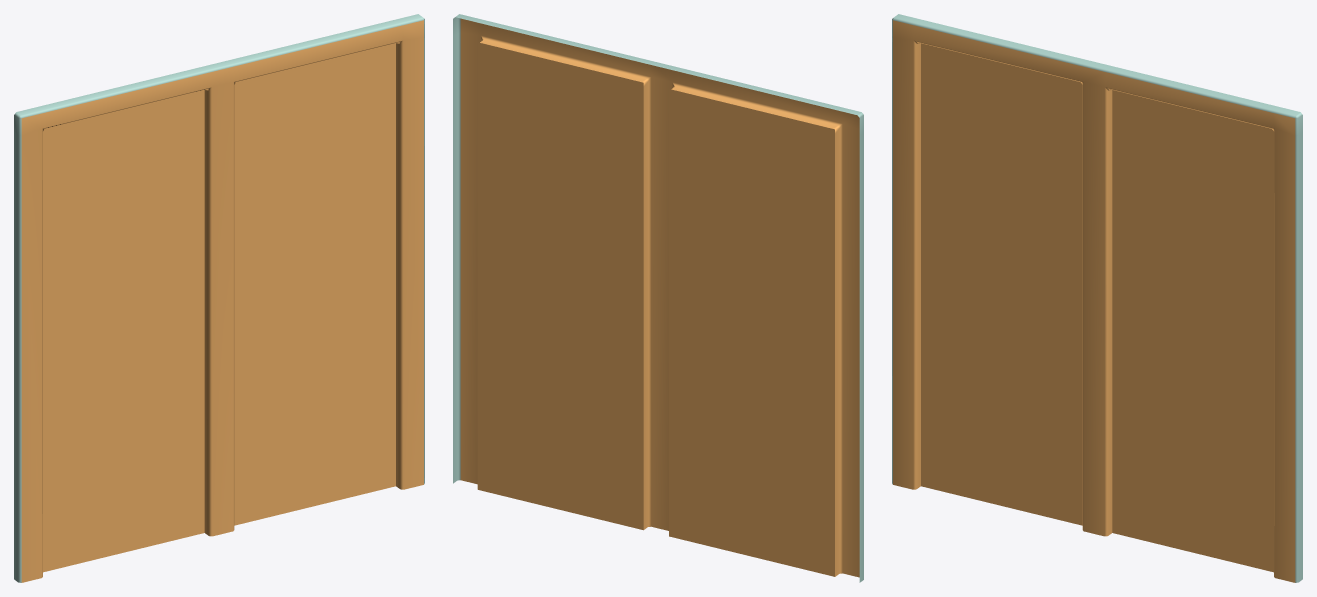
Rendered from PortaCartoon.fbx.
3 renders of one model, left to right at view 1: azimuth 30°, elevation 25°; view 2: azimuth 150°, elevation 25°; view 3: azimuth 330°, elevation 25°, orthographic.
Parts seen in each view (by area): view 1: Layout.006, Layout.005; view 2: Layout.006, Layout.005; view 3: Layout.006, Layout.005.
Part boxes in pixels (x1,y1,x2,y2): Layout.006: [43, 43, 395, 572]; Layout.005: [14, 14, 424, 582]; Layout.006: [477, 42, 834, 576]; Layout.005: [453, 14, 863, 582]; Layout.006: [921, 43, 1273, 572]; Layout.005: [892, 14, 1302, 582].
Bounding box in the file's own units: 435 × 478 × 10.25.
